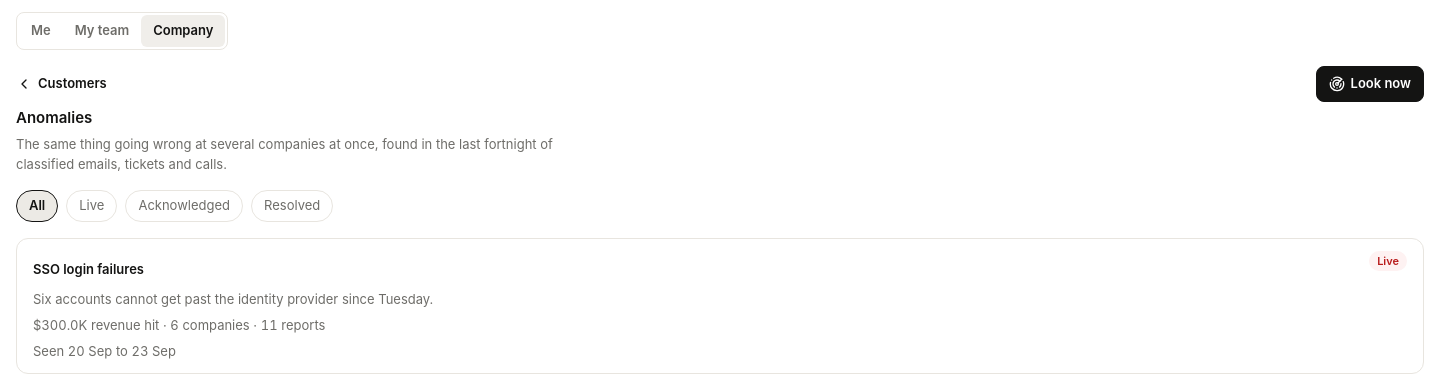
Test: AnomaliesPage › filters by status
The width and height of the screenshot is (1440, 391).
Check: the button "SSO login failures" is shown, box top-left (33, 251), bottom-right (433, 287)
Click the button "Resolved".
click(292, 206)  # box top-left (251, 190), bottom-right (333, 222)
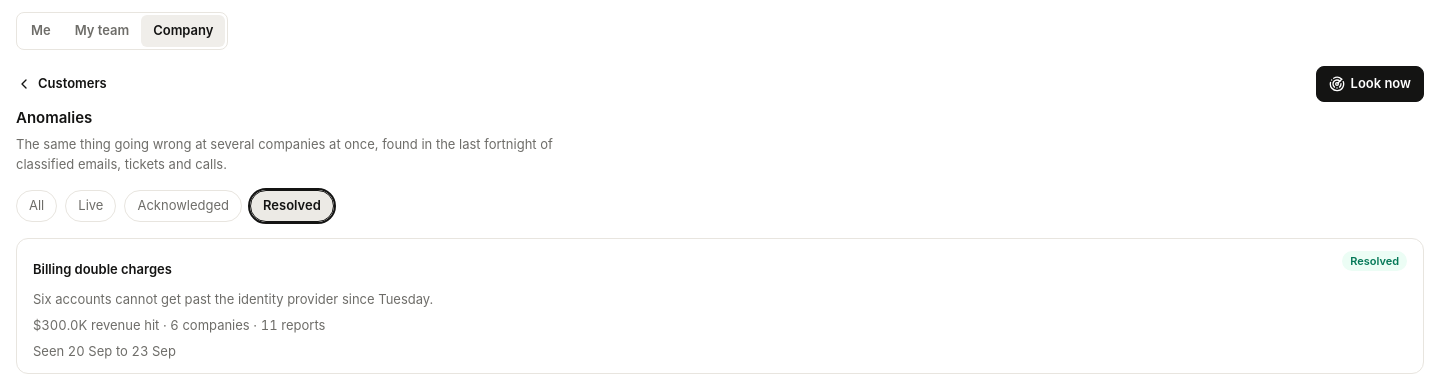
Check: the button "Billing double charges" is shown, box top-left (33, 251), bottom-right (433, 287)
